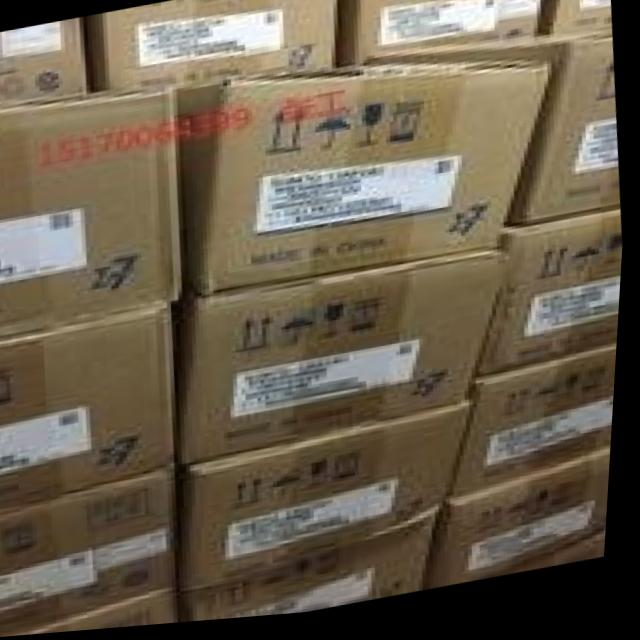box: (177, 69, 552, 296), (180, 256, 512, 469), (184, 410, 478, 599), (364, 39, 623, 237), (0, 87, 182, 339), (0, 308, 180, 510), (0, 469, 183, 638), (188, 513, 449, 626), (453, 354, 622, 510), (434, 459, 617, 597), (480, 217, 626, 386), (98, 0, 337, 92), (337, 0, 543, 71), (0, 18, 87, 101), (550, 0, 613, 41)
